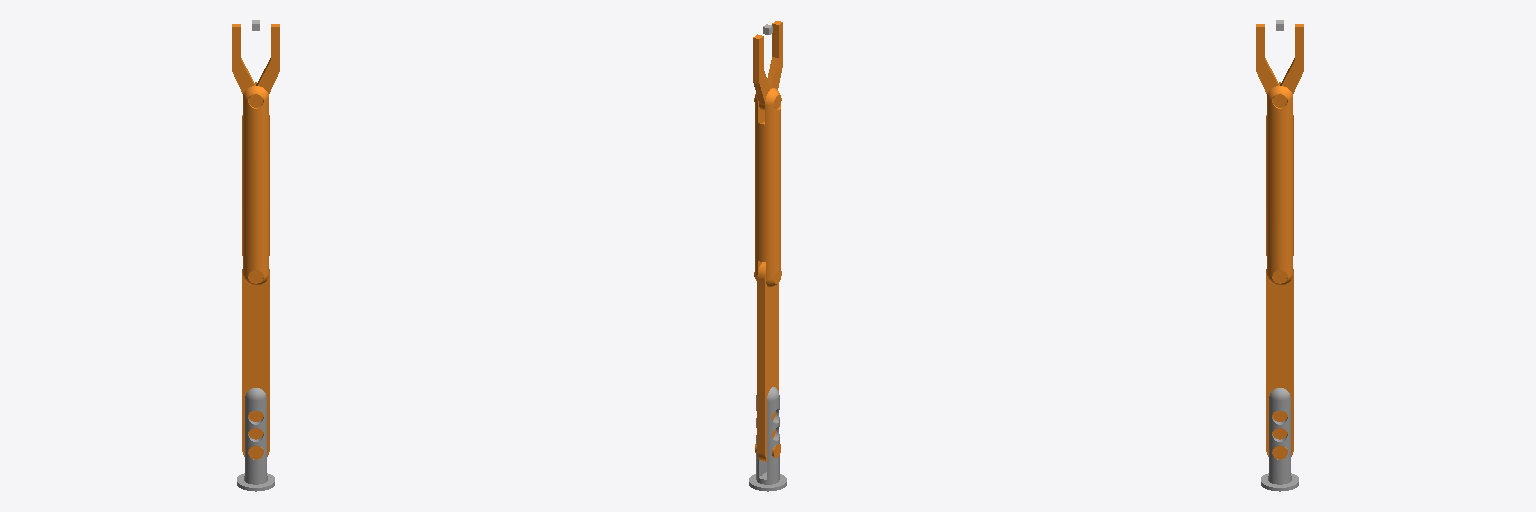
The robot description file, URDF, robot "study_manipulator":
<?xml version="1.0" encoding="utf-8"?>
<!-- This URDF was automatically created by SolidWorks to URDF Exporter! Originally created by [author] ([email redacted]) 
     Commit Version: 1.6.0-1-g15f4949  Build Version: 1.6.7594.29634
     For more information, please see http://wiki.ros.org/sw_urdf_exporter -->
<robot
  name="study_manipulator">
  <link
    name="base_link">
    <visual>
      <origin
        xyz="0 0 0"
        rpy="0 0 0" />
      <geometry>
        <mesh
          filename="package://study_description/meshes/base_link.stl" />
      </geometry>
      <material
        name="">
        <color
          rgba="0.690196078431373 0.690196078431373 0.690196078431373 1" />
      </material>
    </visual>
    <collision>
      <origin
        xyz="0 0 0"
        rpy="0 0 0" />
      <geometry>
        <mesh
          filename="package://study_description/meshes/base_link.stl" />
      </geometry>
    </collision>
  </link>
  <link
    name="link1">
    <visual>
      <origin
        xyz="0 0 0"
        rpy="0 0 0" />
      <geometry>
        <mesh
          filename="package://study_description/meshes/link1.stl" />
      </geometry>
      <material
        name="">
        <color
          rgba="1 0.6 0.2 1" />
      </material>
    </visual>
    <collision>
      <origin
        xyz="0 0 0"
        rpy="0 0 0" />
      <geometry>
        <mesh
          filename="package://study_description/meshes/link1.stl" />
      </geometry>
    </collision>
  </link>
  <joint
    name="joint1"
    type="revolute">
    <origin
      xyz="0 0 0.1"
      rpy="0 0 0" />
    <parent
      link="base_link" />
    <child
      link="link1" />
    <axis
      xyz="1 0 0" />
    <limit
      lower="-6"
      upper="6"
      effort="0"
      velocity="0" />
  </joint>
  <link
    name="link2">
    <visual>
      <origin
        xyz="0 0 0"
        rpy="0 0 0" />
      <geometry>
        <mesh
          filename="package://study_description/meshes/link2.stl" />
      </geometry>
      <material
        name="">
        <color
          rgba="1 0.6 0.2 1" />
      </material>
    </visual>
    <collision>
      <origin
        xyz="0 0 0"
        rpy="0 0 0" />
      <geometry>
        <mesh
          filename="package://study_description/meshes/link2.stl" />
      </geometry>
    </collision>
  </link>
  <joint
    name="joint2"
    type="revolute">
    <origin
      xyz="0. 0 0.5"
      rpy="1.5707963267948966 0 0" />
    <parent
      link="link1" />
    <child
      link="link2" />
    <axis
      xyz="1 0 0" />
    <limit
      lower="-6"
      upper="6"
      effort="0"
      velocity="0" />
  </joint>
  <link
    name="grip">
    <visual>
      <origin
        xyz="0 0 0"
        rpy="0 0 0" />
      <geometry>
        <mesh
          filename="package://study_description/meshes/grip.stl" />
      </geometry>
      <material
        name="">
        <color
          rgba="1 0.6 0.2 1" />
      </material>
    </visual>
    <collision>
      <origin
        xyz="0 0 0"
        rpy="0 0 0" />
      <geometry>
        <mesh
          filename="package://study_description/meshes/grip.stl" />
      </geometry>
    </collision>
  </link>
  <joint
    name="joint3"
    type="revolute">
    <origin
      xyz="0 0.5 -0."
      rpy="0 0 0" />
    <parent
      link="link2" />
    <child
      link="grip" />
    <axis
      xyz="1 0 0" />
    <limit
      lower="-6"
      upper="6"
      effort="0"
      velocity="0" />
  </joint>
  <link
    name="ee">
          <visual>
        <origin xyz="0 0 0" rpy="0 0 0" />        
        <geometry>
          <box size="0.02 0.02 0.02"/>
        </geometry>
        <material        name="">
          <color         rgba="0.776470588235294 0.756862745098039 0.737254901960784 1" />
        </material>
      </visual>
  </link>
  <joint
    name="ee"
    type="fixed">
    <origin
      xyz="0 0.2 0"
      rpy="0 0 0" />
    <parent
      link="grip" />
    <child
      link="ee" />
    <axis
      xyz="0 0 0" />
  </joint>  
</robot>

--- What the picture shows (computed from the rendered views, not written in the file) ---
The picture shows the robot from 3 angles, left to right: view 1: azimuth 90°, elevation 25°; view 2: azimuth 150°, elevation 25°; view 3: azimuth 270°, elevation 25°; orthographic projection.
Model study_manipulator with 5 links and 4 joints (3 revolute, 1 fixed), rooted at base_link, posed every joint at zero.
Visible links, largest first — view 1: link2, link1, base_link, grip; view 2: link2, link1, base_link, grip; view 3: link2, link1, base_link, grip.
Link boxes in pixels (x1,y1,x2,y2): link2: (242,82,269,285); link1: (242,269,269,459); base_link: (237,388,274,491); grip: (232,24,279,107); link2: (755,88,780,286); link1: (754,262,781,461); base_link: (749,387,786,491); grip: (753,21,782,110); link2: (1266,82,1293,285); link1: (1266,269,1293,459); base_link: (1261,388,1298,491); grip: (1256,24,1303,107).
Bounding box of the posed robot: 0.1 × 0.122 × 1.31 m (x, y, z).
4 mesh visuals loaded from 4 distinct referenced files (4 binary STL).